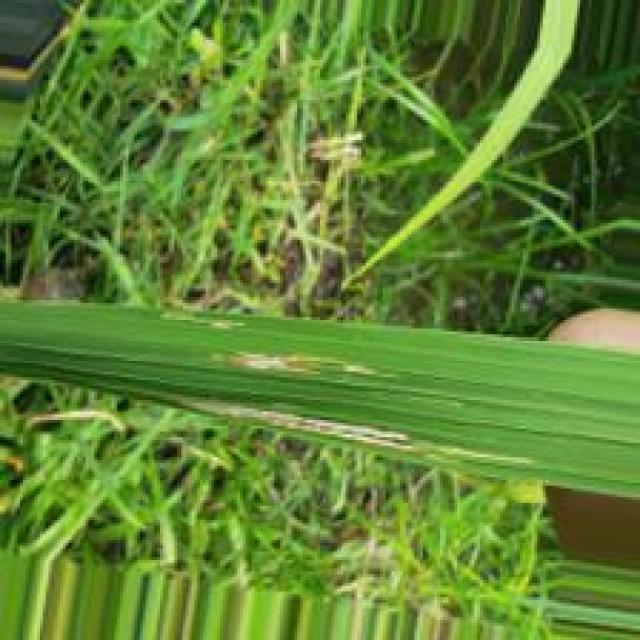Rice_Hispa: (212, 402, 422, 454), (220, 349, 316, 388)
